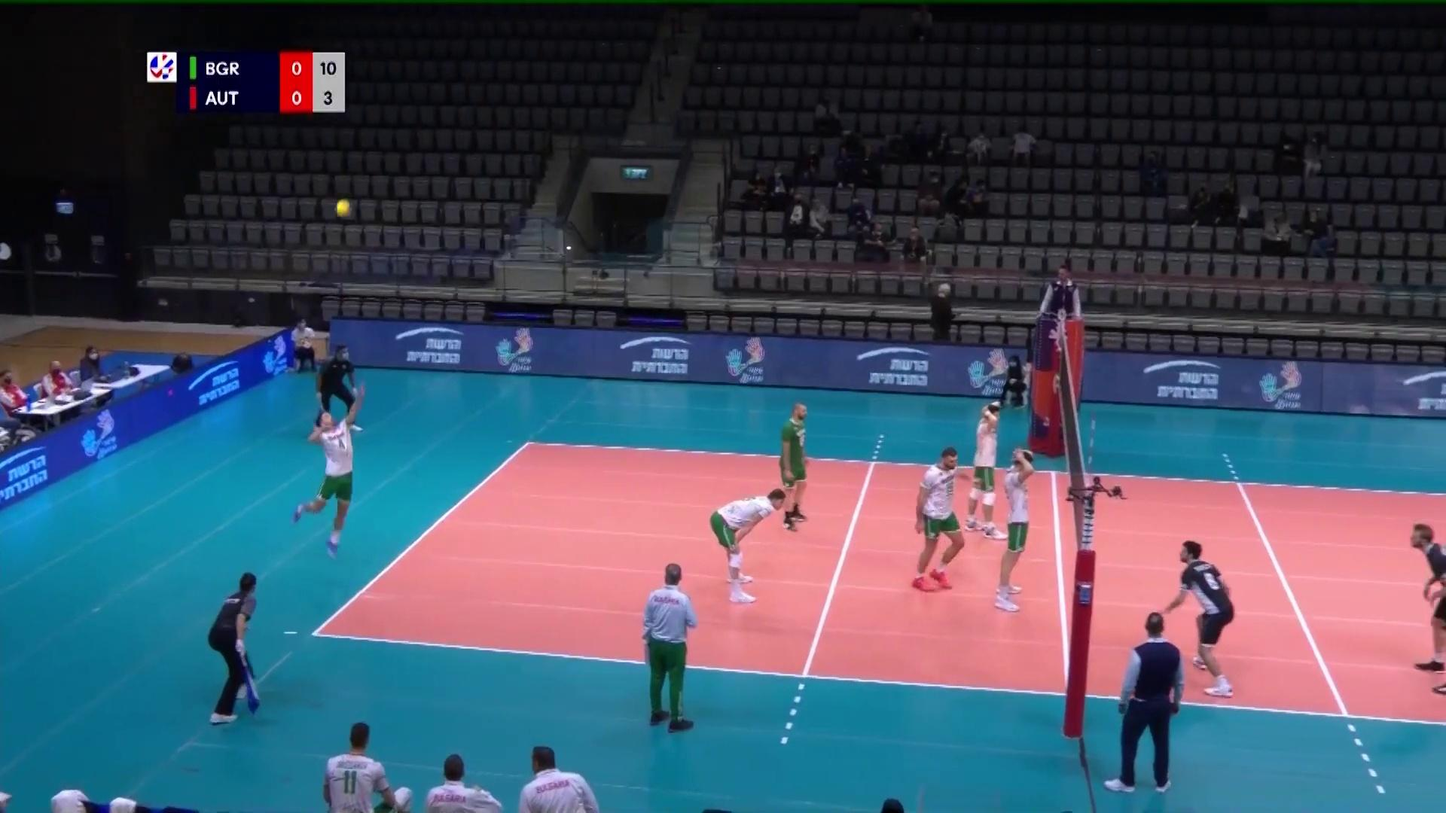ball: (334, 196, 354, 220)
